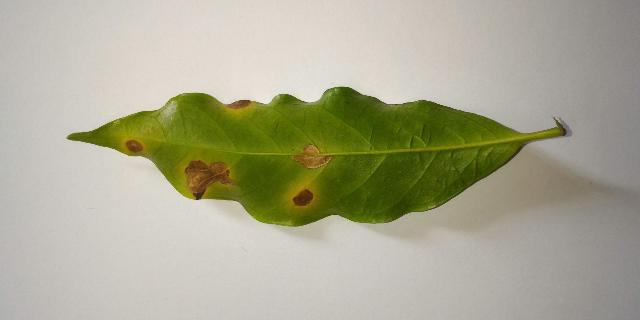cercospora: (182, 159, 235, 199), (293, 145, 332, 168), (289, 185, 316, 209), (122, 138, 146, 153), (224, 100, 253, 111), (638, 318, 640, 320), (0, 318, 1, 320), (638, 0, 640, 1)
